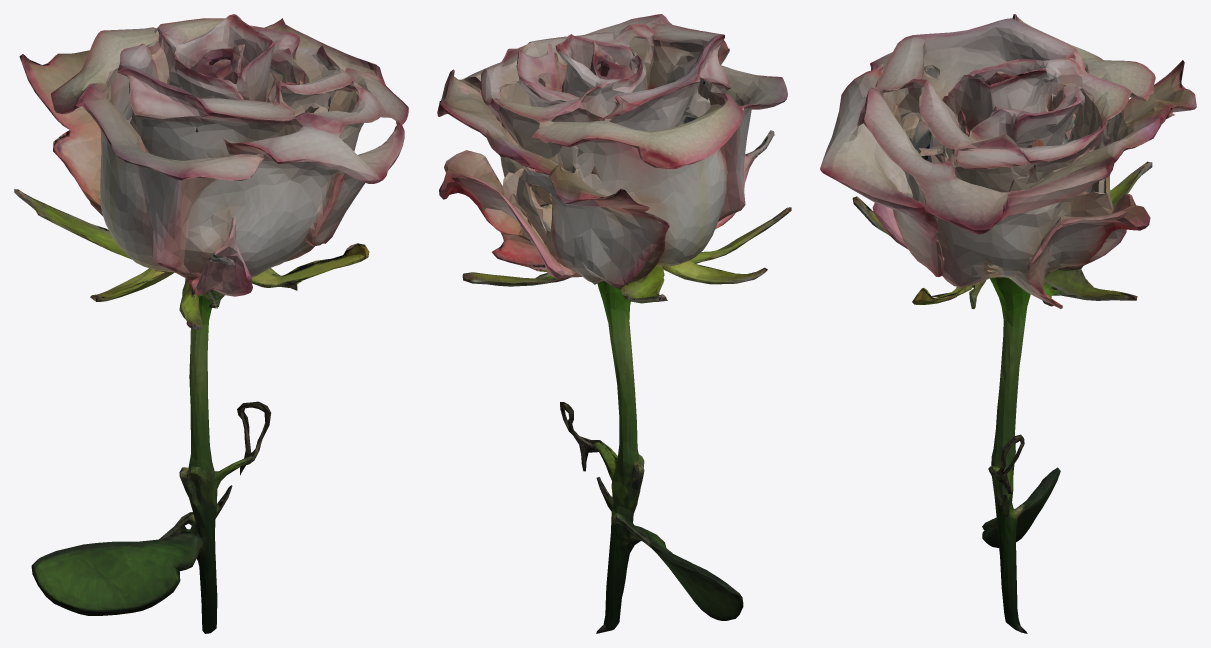
The picture shows the model from 3 angles, left to right: view 1: azimuth 30°, elevation 25°; view 2: azimuth 150°, elevation 25°; view 3: azimuth 270°, elevation 25°; orthographic projection. The views are drawn at different scales.
Visible parts, largest first — view 1: world; view 2: world; view 3: world.
Boxes of the visible parts, x1=… form: world: x1=14, y1=14, x2=408, y2=633; world: x1=437, y1=14, x2=791, y2=633; world: x1=820, y1=14, x2=1196, y2=633.
Size of the model in its own units: 0.5562 by 0.9544 by 0.5617.
Materials: 1 (1 with a texture image).
